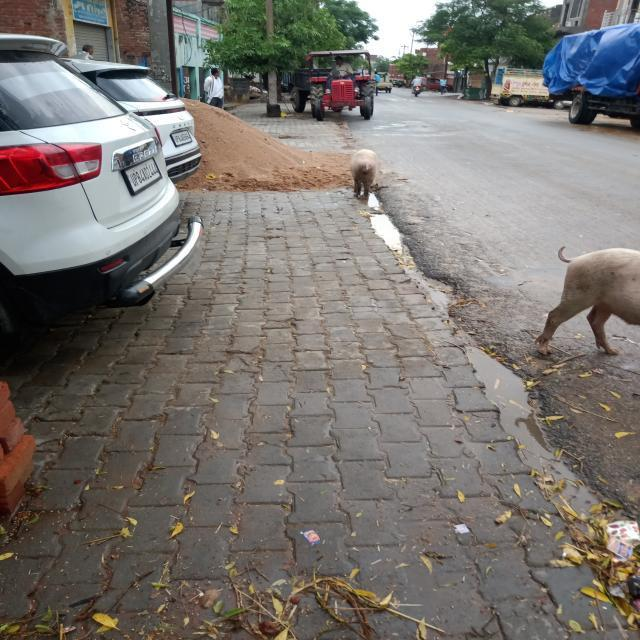tractor_front: (296, 42, 378, 124)
